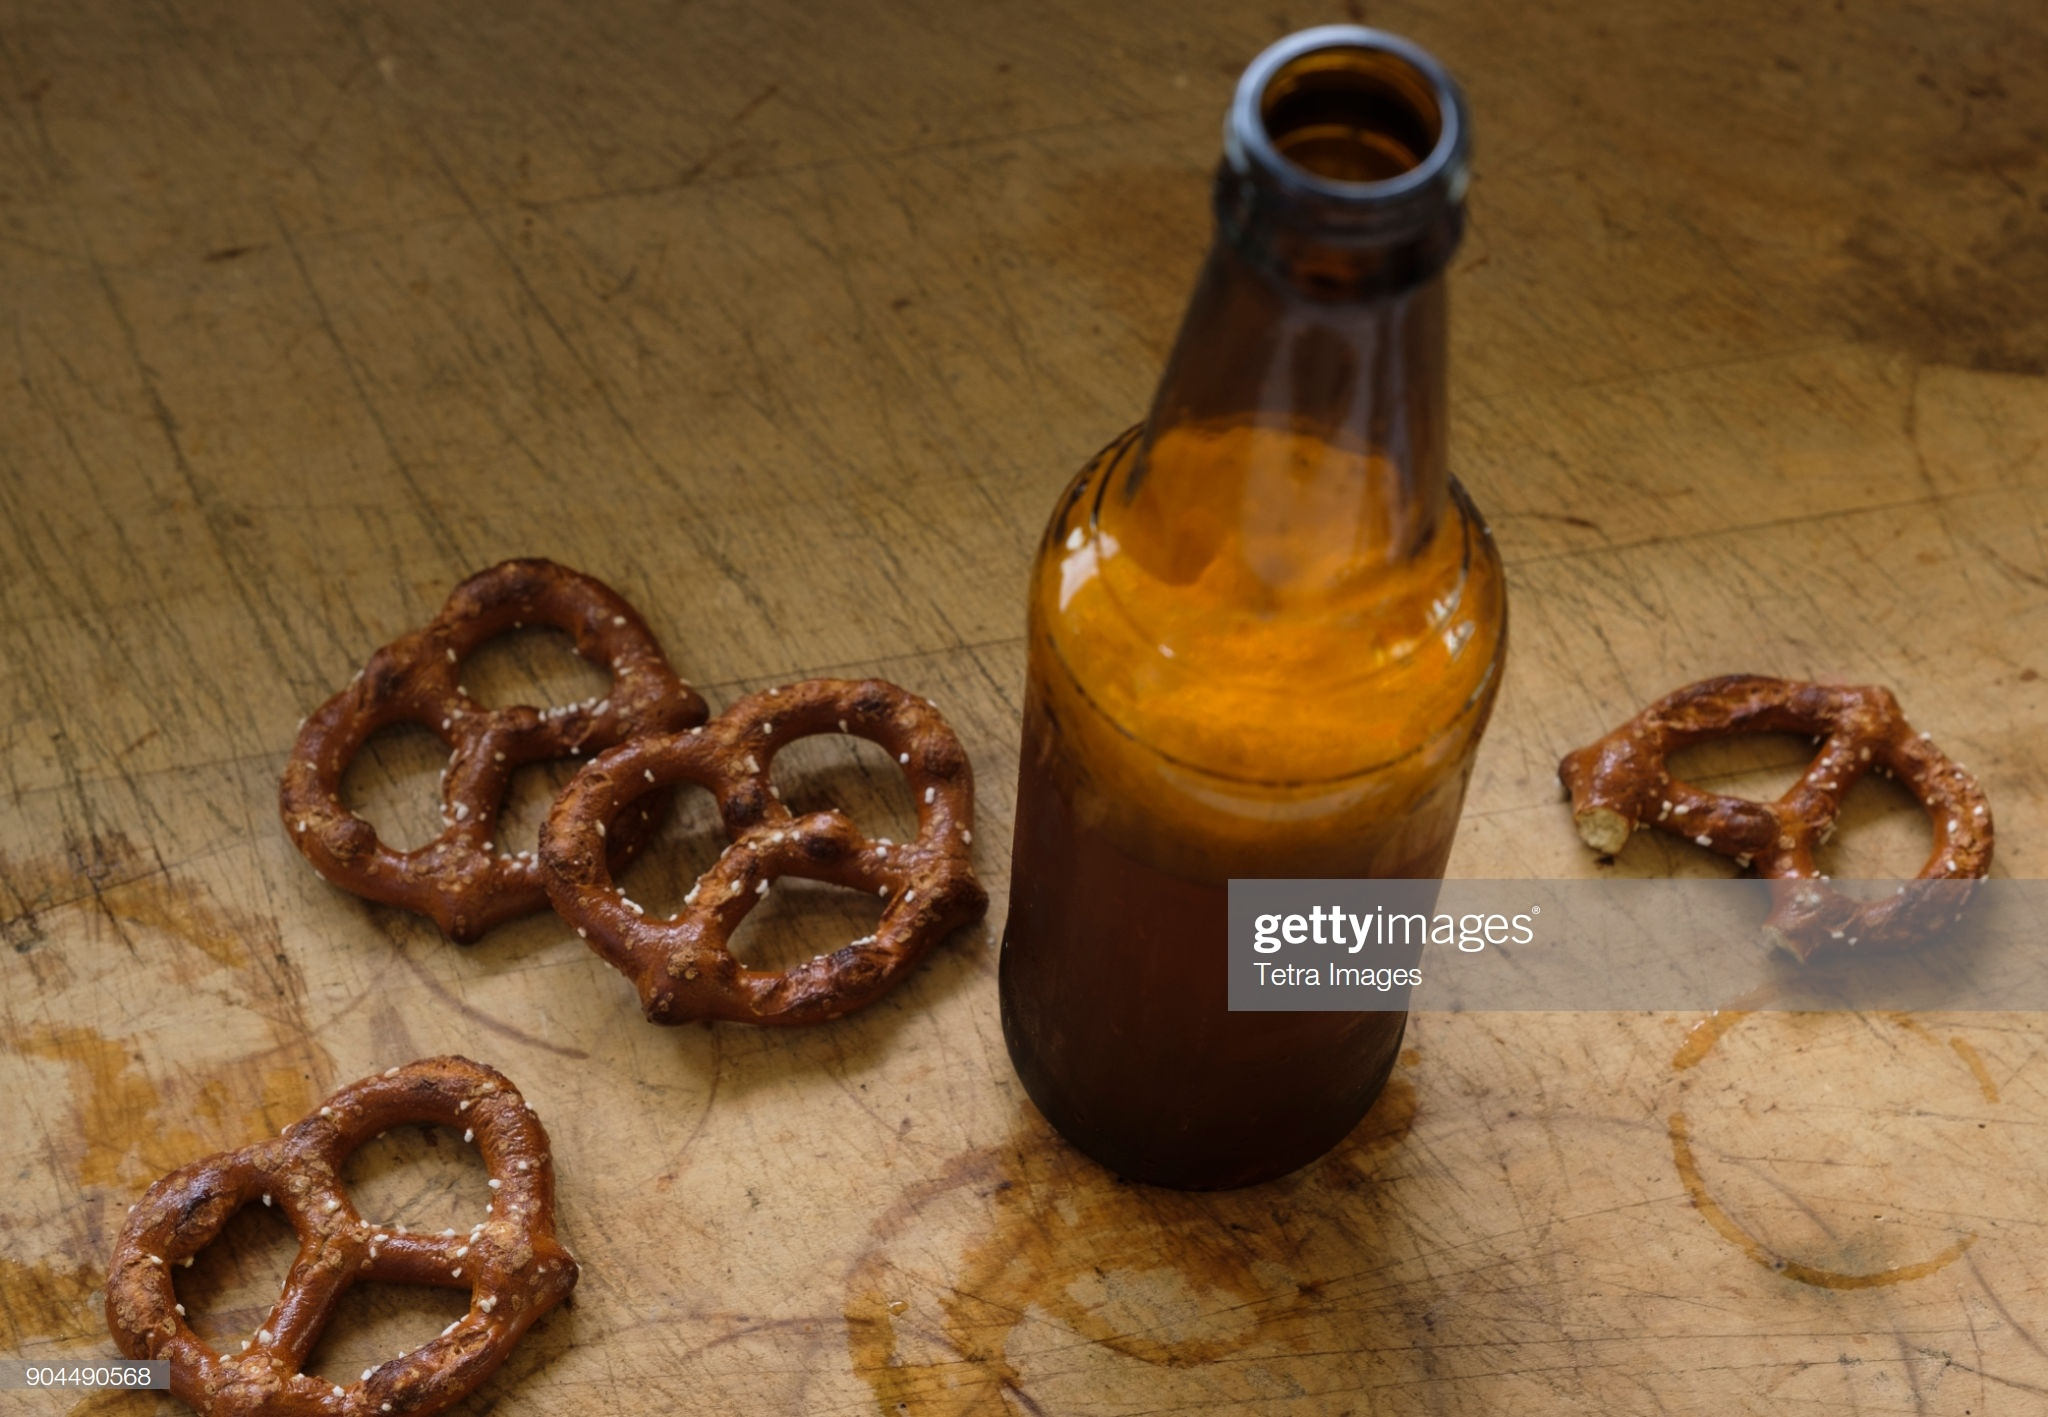beerBottle: (1007, 47, 1505, 1168)
